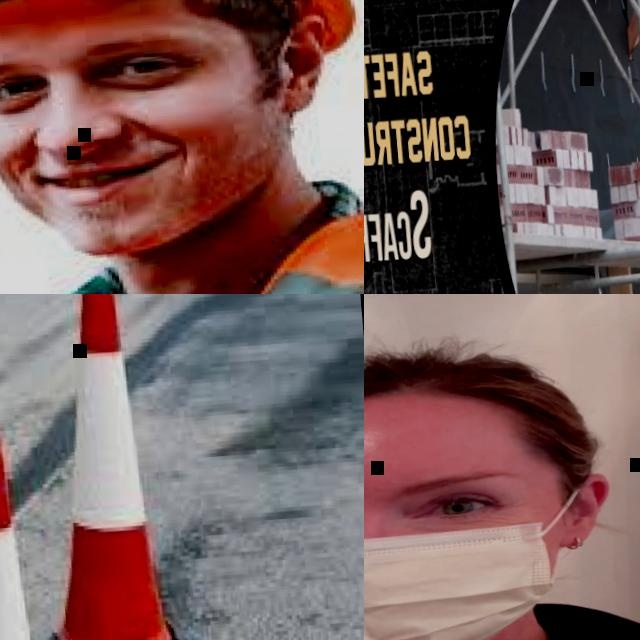Hardhat: (0, 0, 359, 94)
Mask: (364, 464, 592, 640)
NO-Hardhat: (364, 326, 579, 454)
NO-Mask: (0, 69, 325, 265)
Person: (0, 0, 364, 294), (364, 309, 640, 640)
Safety Cone: (0, 294, 218, 640), (0, 423, 87, 640)
Safety Vest: (0, 179, 364, 294)
